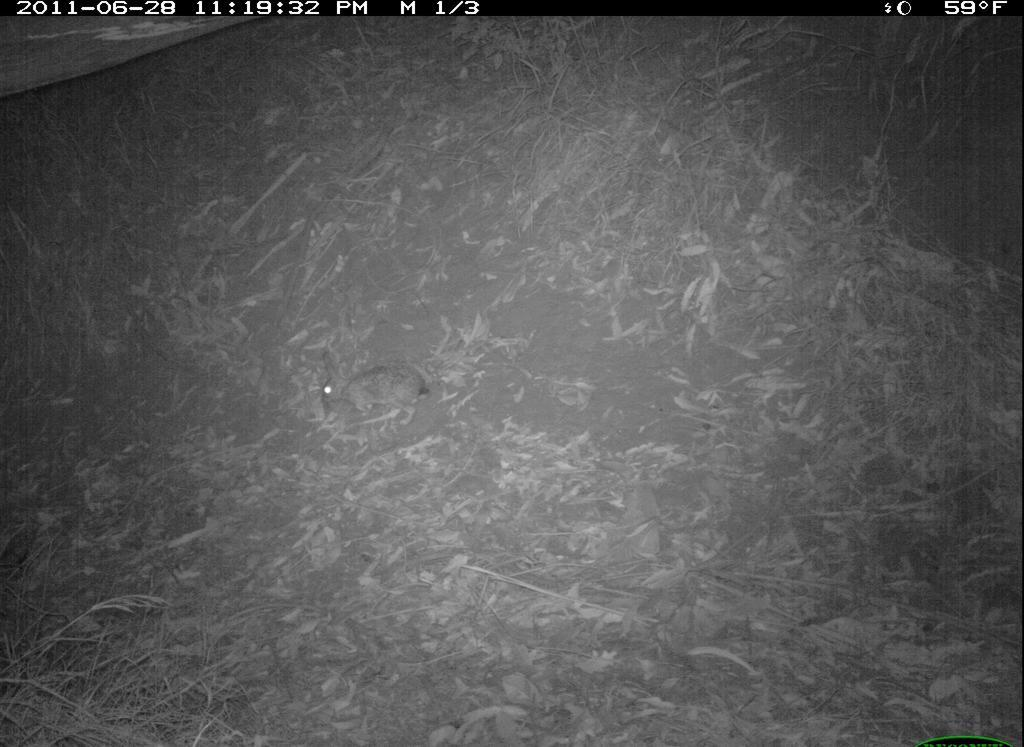rabbit: (313, 346, 440, 437)
